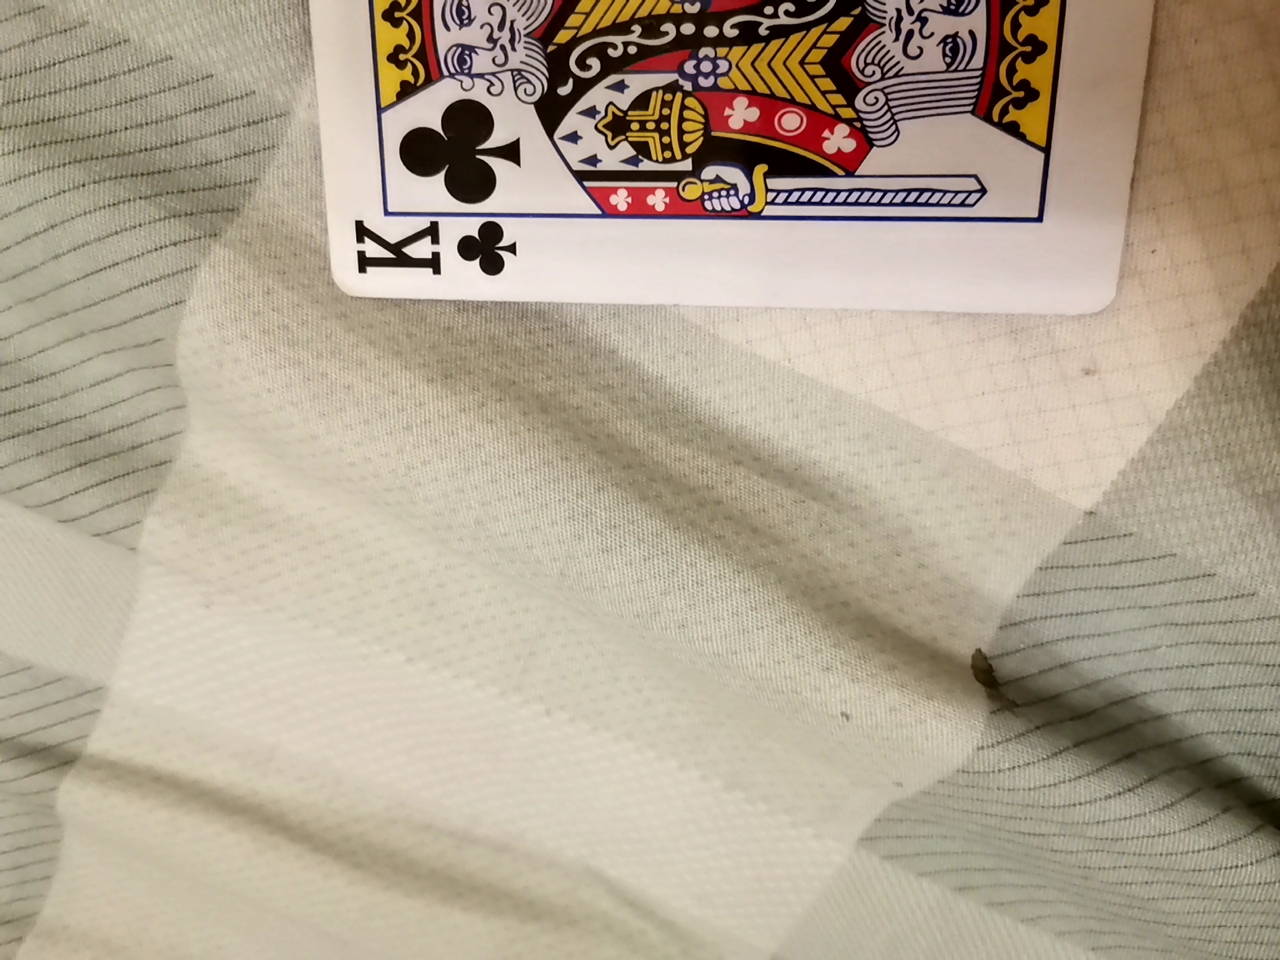mh k: (303, 0, 1170, 320)
